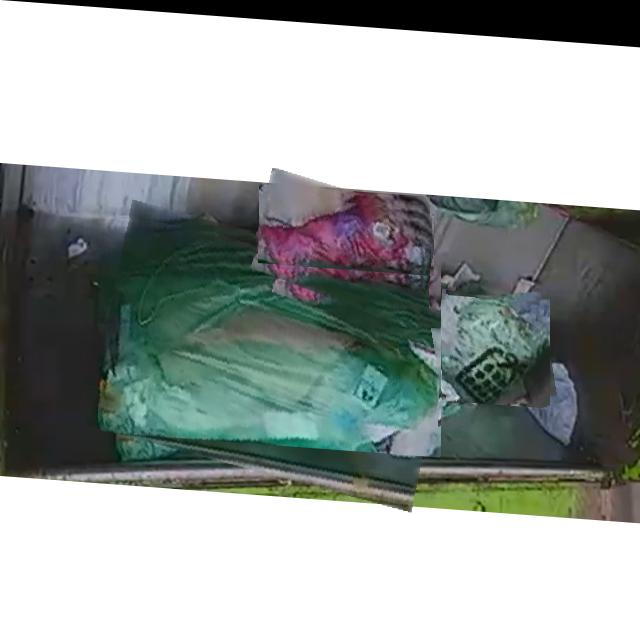general_trashbag: (99, 225, 440, 446), (442, 287, 543, 396)
other_trashbag: (261, 197, 434, 264)
